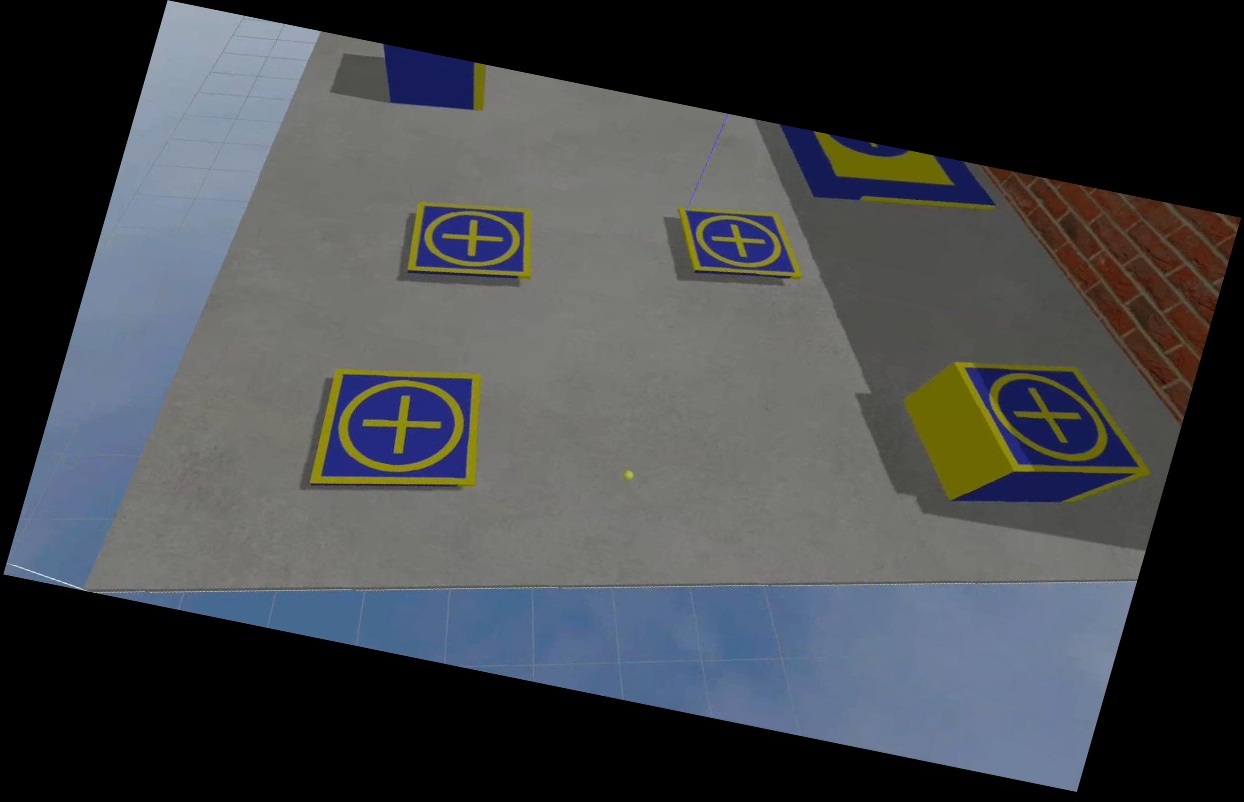large_base: (766, 125, 1010, 230)
small_base: (920, 343, 1176, 505), (300, 346, 500, 517), (397, 189, 549, 297), (668, 201, 816, 292)
